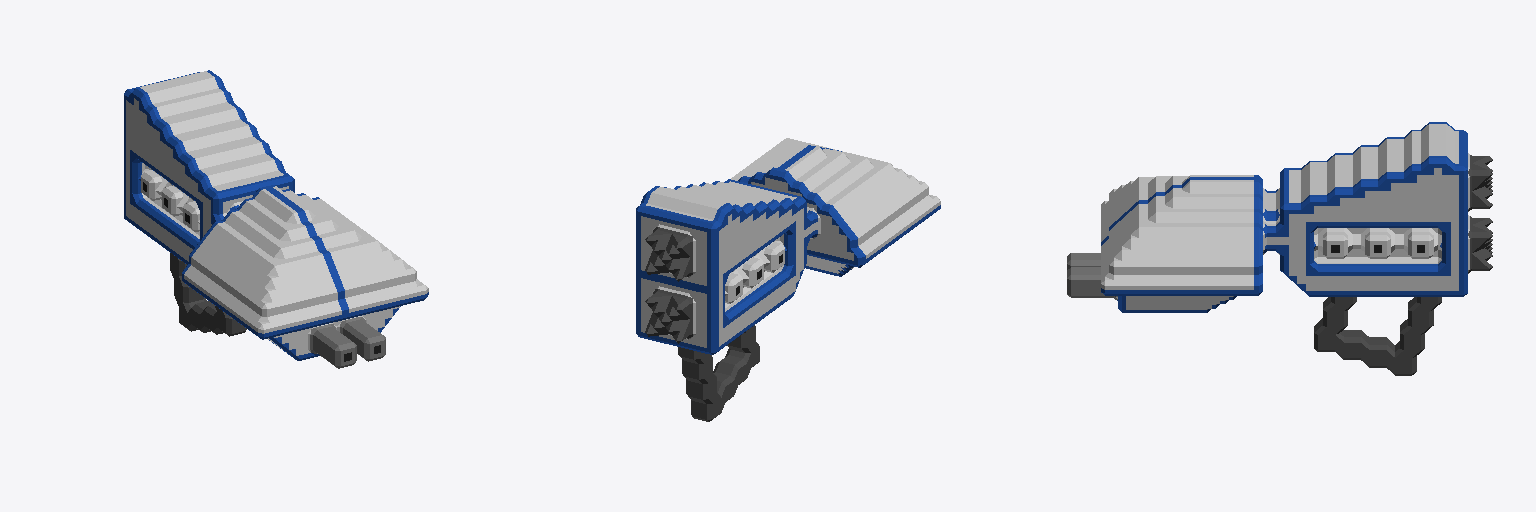
3 renders of one model, left to right at view 1: azimuth 30°, elevation 25°; view 2: azimuth 150°, elevation 25°; view 3: azimuth 270°, elevation 25°, orthographic.
Bounding box in the file's own units: 23 × 30 × 50.
Materials: 1 (1 with a texture image).